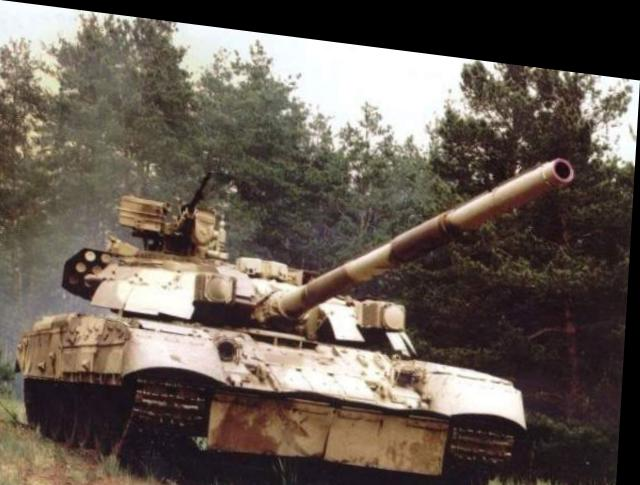tank: (21, 177, 534, 484)
